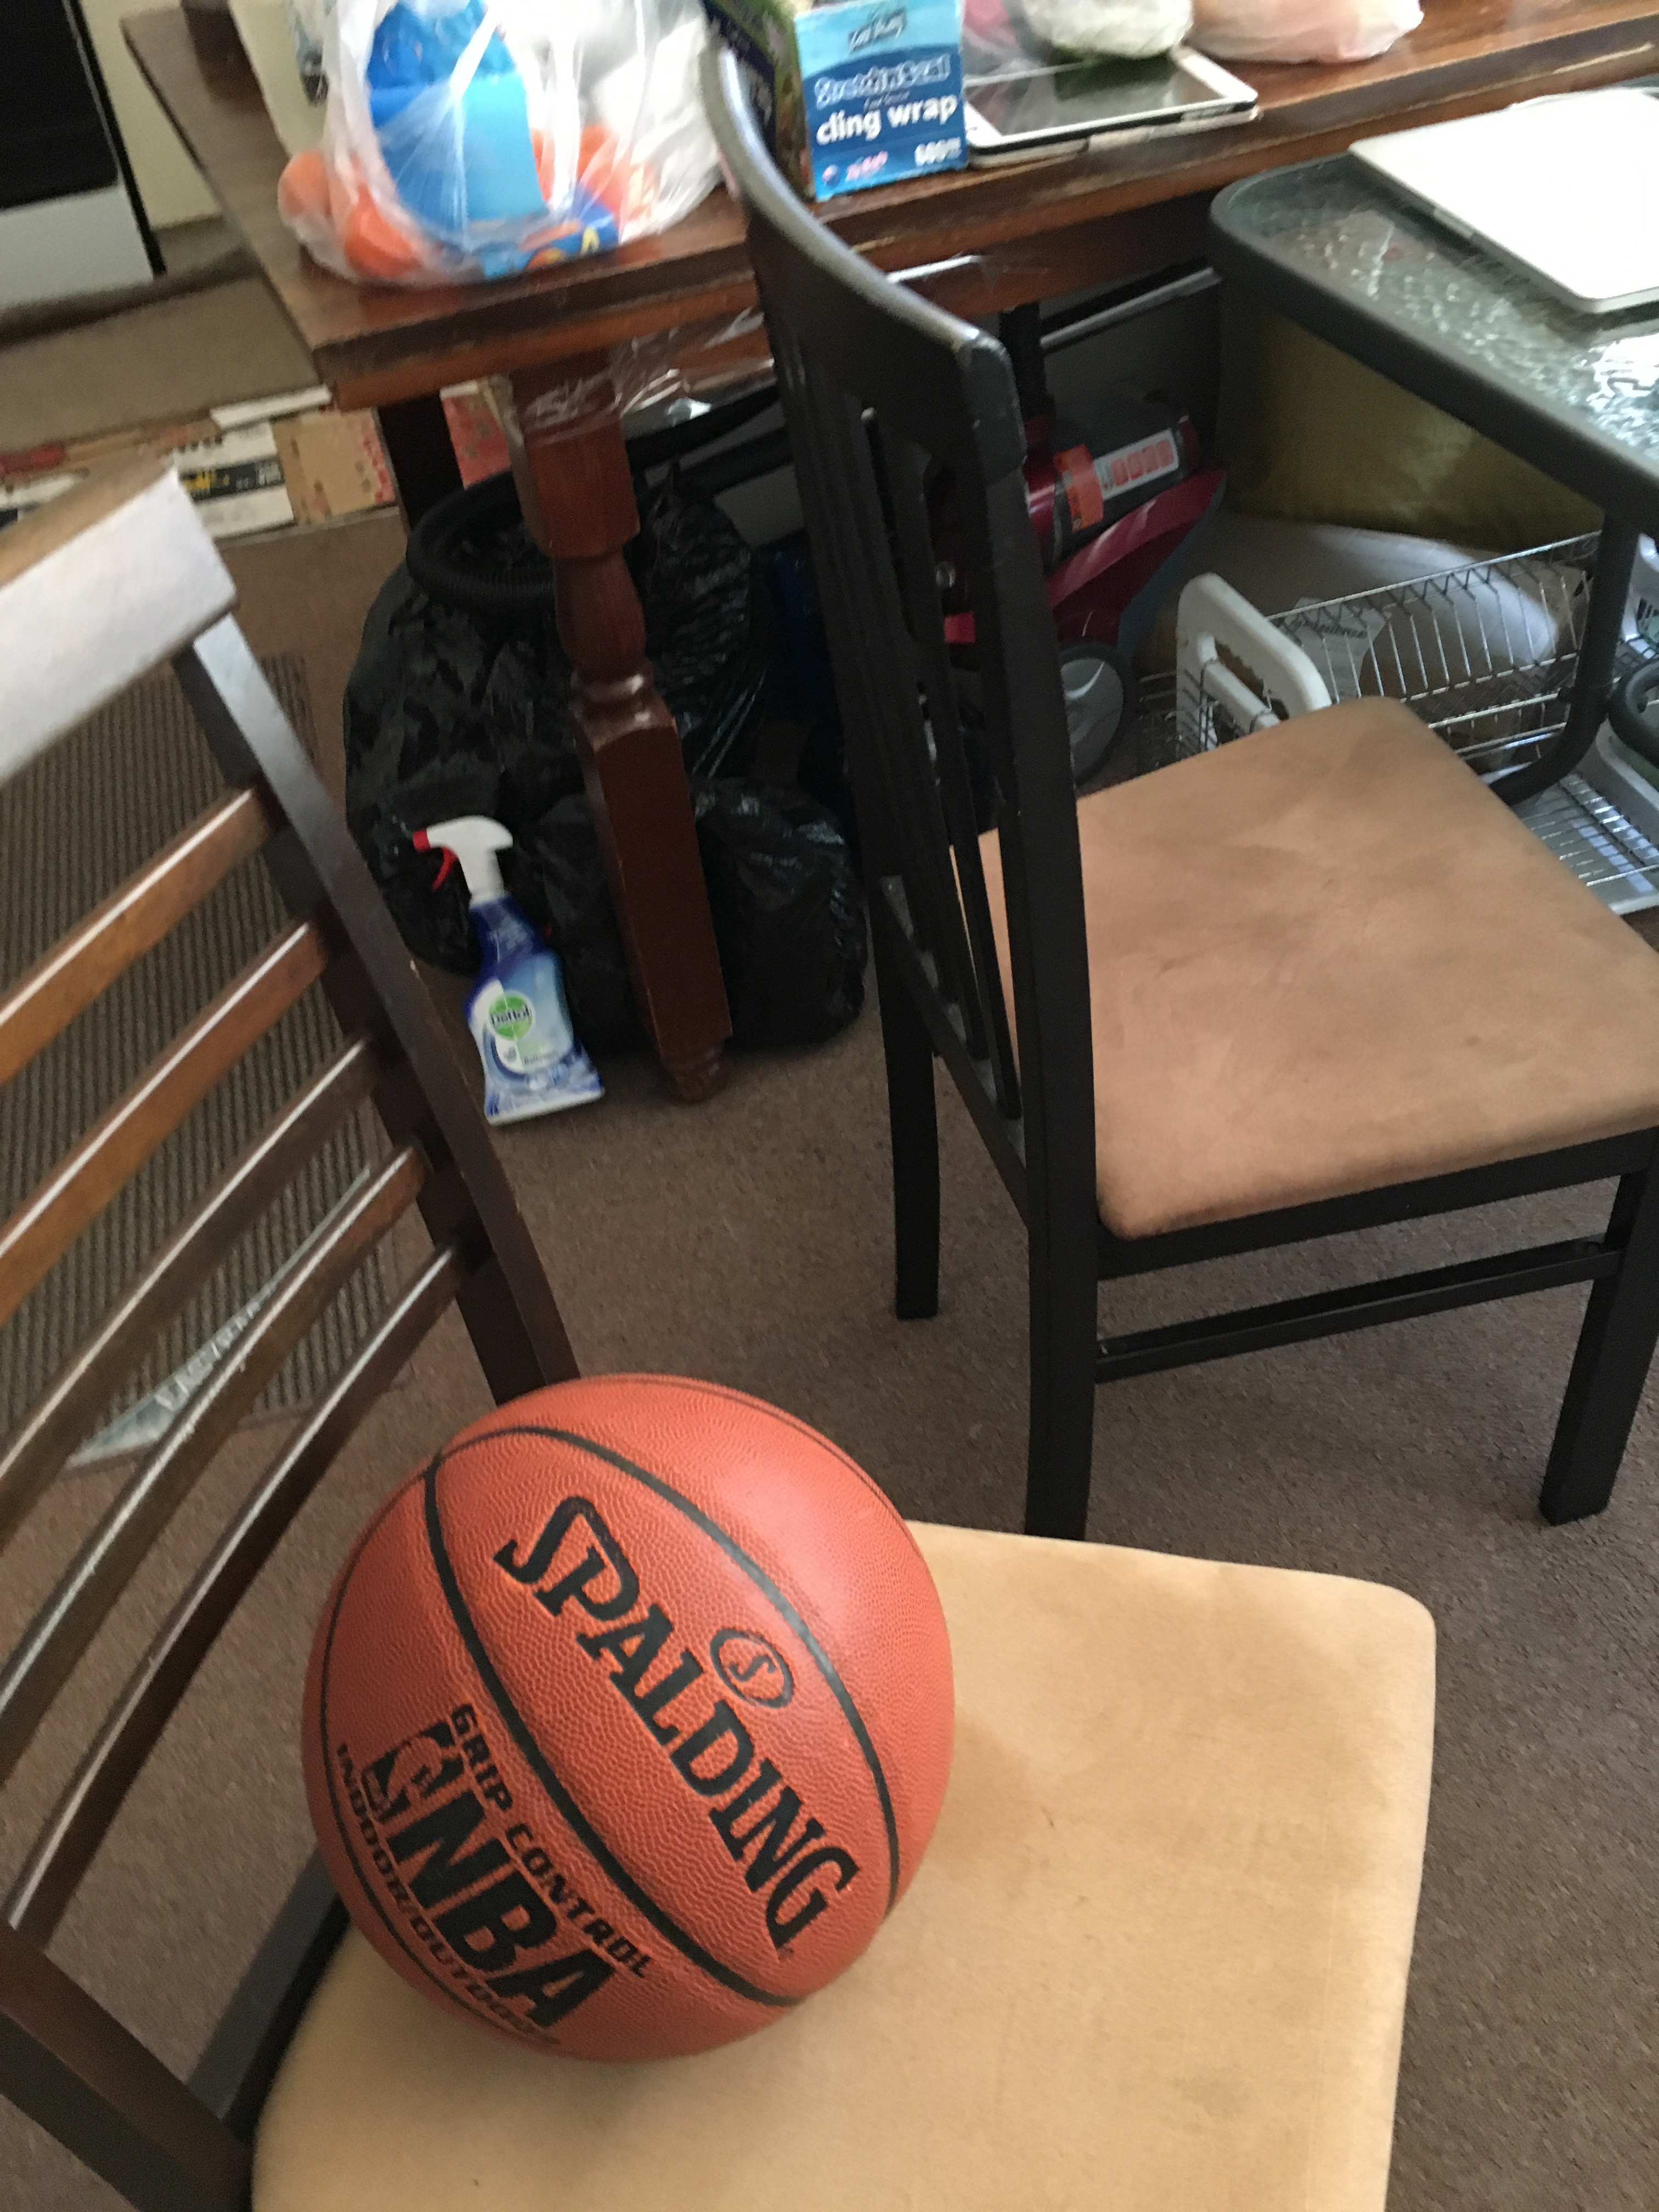Basketball: (289, 1367, 979, 2076)
